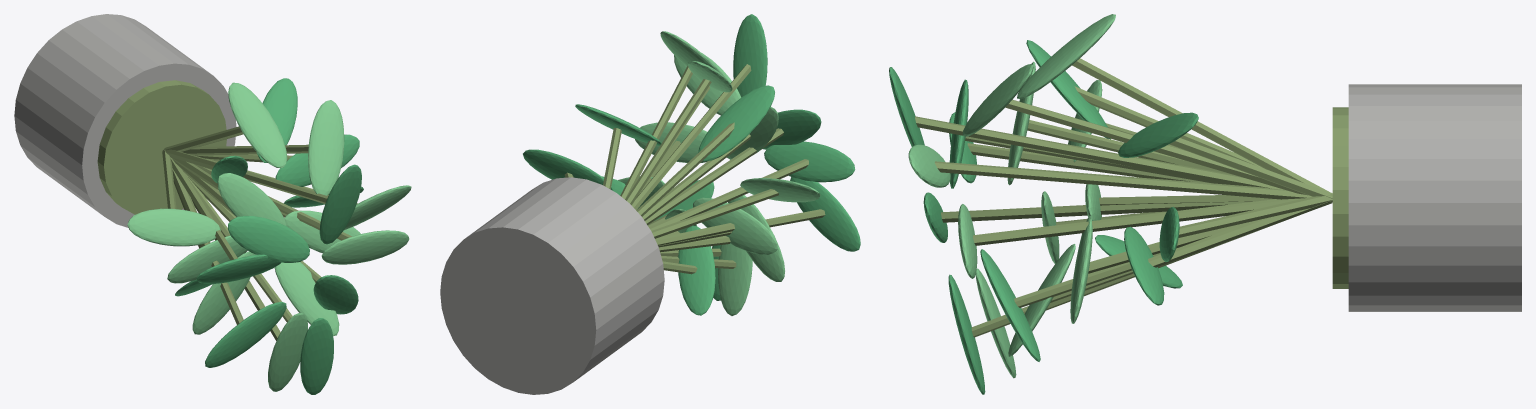
Rendered from PLANT_LARGE_REALISTIC_HERO_001.glb.
3 renders of one model, left to right at view 1: azimuth 30°, elevation 25°; view 2: azimuth 150°, elevation 25°; view 3: azimuth 270°, elevation 25°, orthographic. The views are drawn at different scales.
Parts seen in each view (by area): view 1: large_pot_000, soil_001, leaf_023, leaf_011, leaf_021, leaf_015, leaf_029, leaf_037, leaf_003, leaf_013, leaf_039, leaf_019 (+23 smaller); view 2: large_pot_000, leaf_025, leaf_017, leaf_029, leaf_033, leaf_013, leaf_027, leaf_035, stem_012, leaf_005, stem_014, leaf_021 (+19 smaller); view 3: large_pot_000, stem_006, stem_012, stem_002, soil_001, stem_014, stem_028, stem_010, leaf_015, stem_024, leaf_009, stem_004 (+26 smaller).
Part boxes in pixels (x1=…): large_pot_000: x1=14, y1=14, x2=236, y2=227; soil_001: x1=97, y1=80, x2=226, y2=214; leaf_023: x1=127, y1=208, x2=220, y2=246; leaf_011: x1=308, y1=100, x2=344, y2=195; leaf_021: x1=228, y1=216, x2=309, y2=262; leaf_015: x1=228, y1=82, x2=287, y2=167; leaf_029: x1=205, y1=301, x2=286, y2=367; leaf_037: x1=300, y1=318, x2=333, y2=394; leaf_003: x1=321, y1=230, x2=409, y2=264; leaf_013: x1=319, y1=164, x2=361, y2=244; leaf_039: x1=274, y1=262, x2=339, y2=335; leaf_019: x1=217, y1=173, x2=287, y2=226; large_pot_000: x1=440, y1=177, x2=664, y2=394; leaf_025: x1=764, y1=141, x2=855, y2=182; leaf_017: x1=698, y1=85, x2=774, y2=161; leaf_029: x1=790, y1=177, x2=860, y2=251; leaf_033: x1=678, y1=225, x2=715, y2=315; leaf_013: x1=733, y1=14, x2=767, y2=97; leaf_027: x1=693, y1=197, x2=777, y2=254; leaf_035: x1=718, y1=244, x2=752, y2=315; stem_012: x1=632, y1=64, x2=751, y2=210; leaf_005: x1=523, y1=149, x2=613, y2=190; stem_014: x1=625, y1=79, x2=711, y2=205; leaf_021: x1=763, y1=109, x2=821, y2=149; large_pot_000: x1=1348, y1=84, x2=1521, y2=311; stem_006: x1=934, y1=161, x2=1311, y2=199; stem_012: x1=915, y1=116, x2=1283, y2=189; stem_002: x1=973, y1=198, x2=1303, y2=245; soil_001: x1=1332, y1=107, x2=1348, y2=288; stem_014: x1=1072, y1=58, x2=1331, y2=193; stem_028: x1=941, y1=201, x2=1255, y2=222; stem_010: x1=1005, y1=99, x2=1307, y2=195; leaf_015: x1=1017, y1=14, x2=1115, y2=99; stem_024: x1=967, y1=143, x2=1210, y2=183; leaf_009: x1=1118, y1=112, x2=1198, y2=157; stem_004: x1=1178, y1=194, x2=1332, y2=237.
Bounding box in the file's own units: 0.8517 × 0.872 × 1.39.
